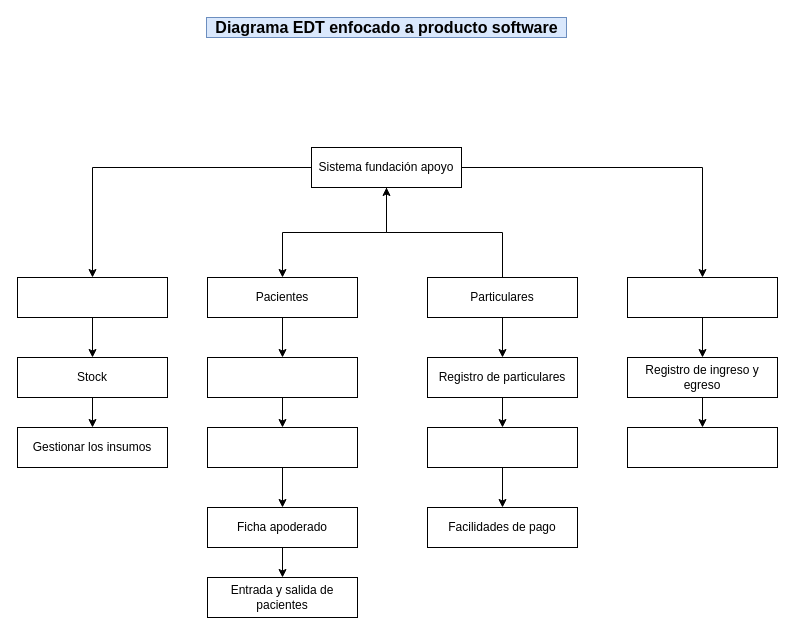
Some shapes in this 795 by 635 pixel diagram are drawn without their labels. Here are the shapes that lost their labels. From the top down, the centre of each, then its label:
At pixel 92 297: "Medicamentos".
At pixel 702 297: "Finanzas".
At pixel 282 377: "Registro de pacientes".
At pixel 282 447: "Ficha médica".
At pixel 502 447: "Registro de aportes".
At pixel 702 447: "Mostrar un informe de finanzas mensual/semanal".
